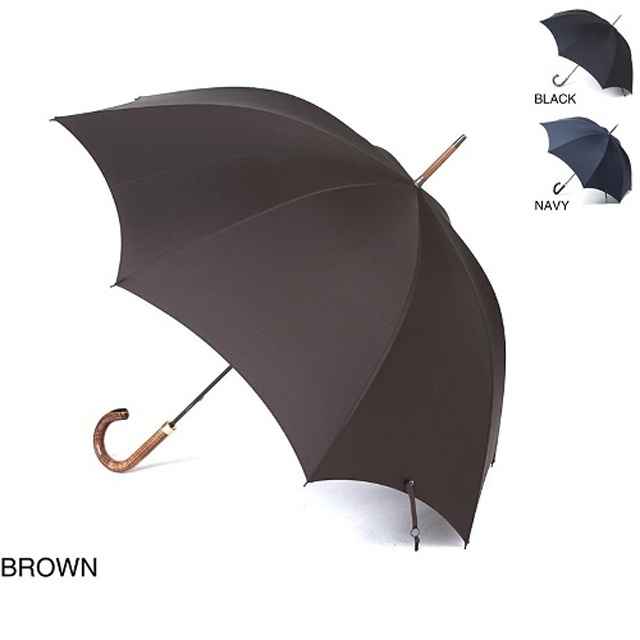umbrella: (48, 84, 512, 552), (541, 5, 637, 101), (537, 114, 634, 206)
